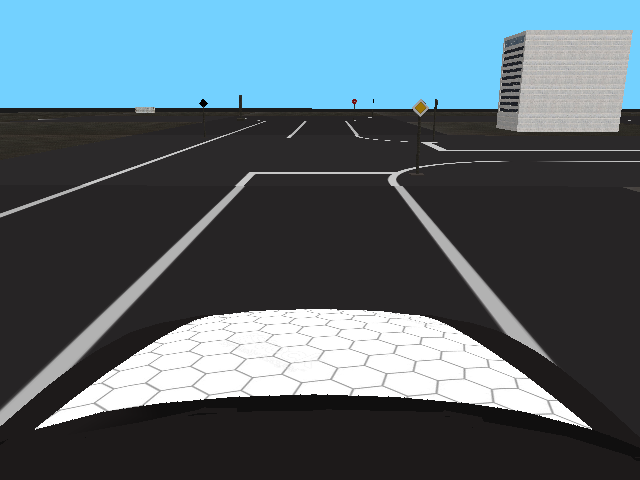yellow_light: (412, 98, 429, 119)
